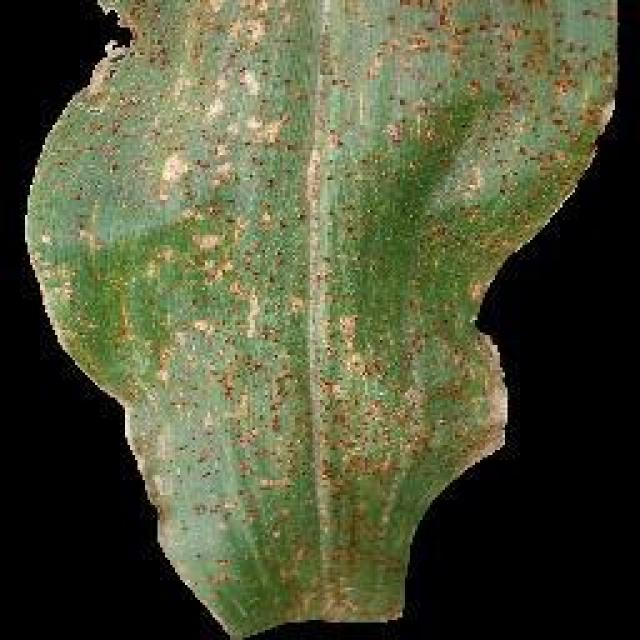Corn Common Rust: (105, 6, 535, 626)
